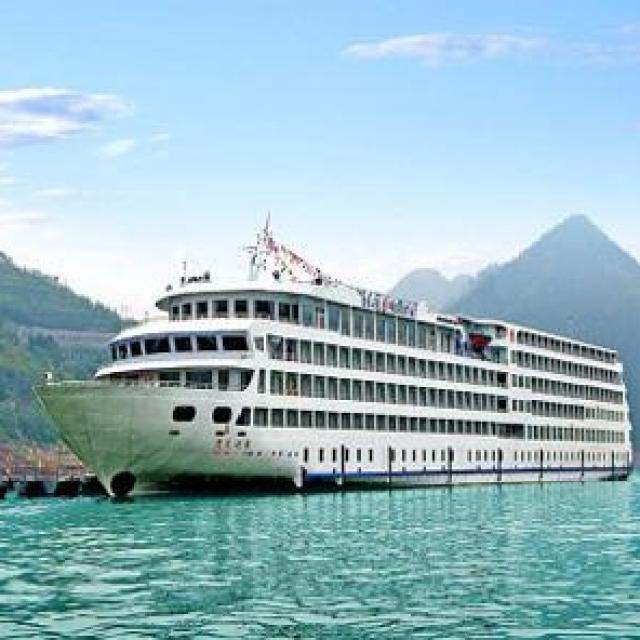passenger ship: (34, 247, 630, 484)
